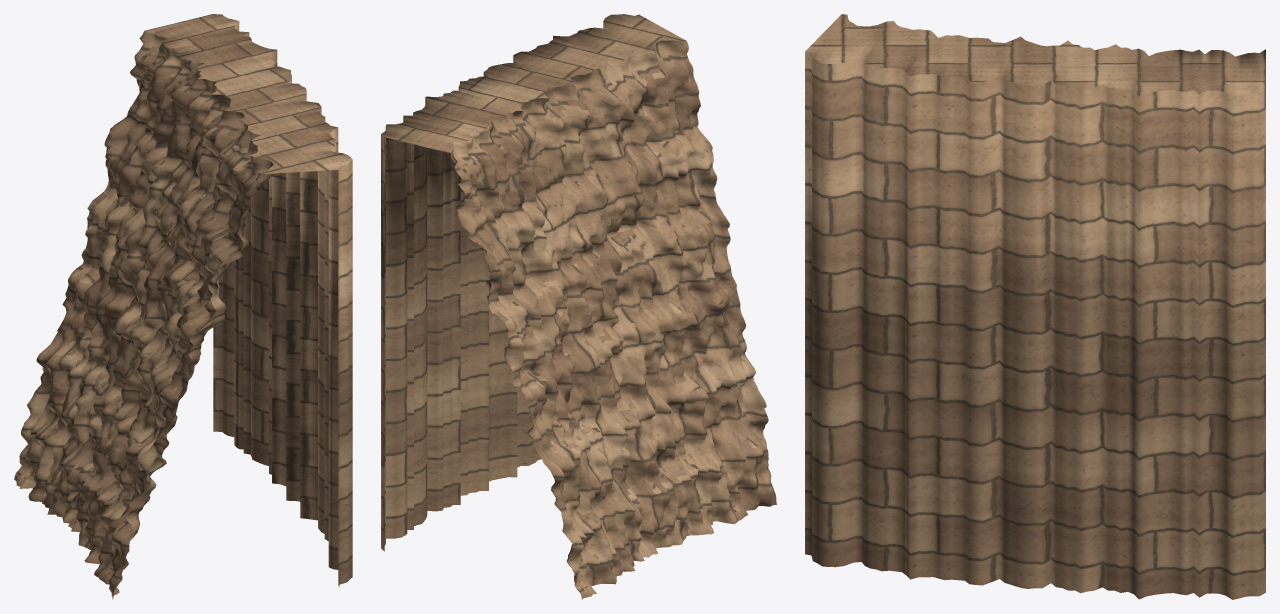
The model's file is map_walls_05.glb.
3 views of the same model, side by side, from view 1: azimuth 30°, elevation 25°; view 2: azimuth 150°, elevation 25°; view 3: azimuth 270°, elevation 25° (orthographic). The views are drawn at different scales.
Visible parts, largest first — view 1: Wall_15__wall_01, Wall_15__wall_00; view 2: Wall_15__wall_00, Wall_15__wall_01; view 3: Wall_15__wall_01.
Boxes of the visible parts, x1,y1,x2,y2 form: Wall_15__wall_01: (14,14,352,586); Wall_15__wall_00: (41,58,273,599); Wall_15__wall_00: (489,40,776,577); Wall_15__wall_01: (381,14,686,599); Wall_15__wall_01: (805,14,1265,599).
Bounding box in the file's own units: 129 × 197 × 164.
Materials: 1 (1 with a texture image).
